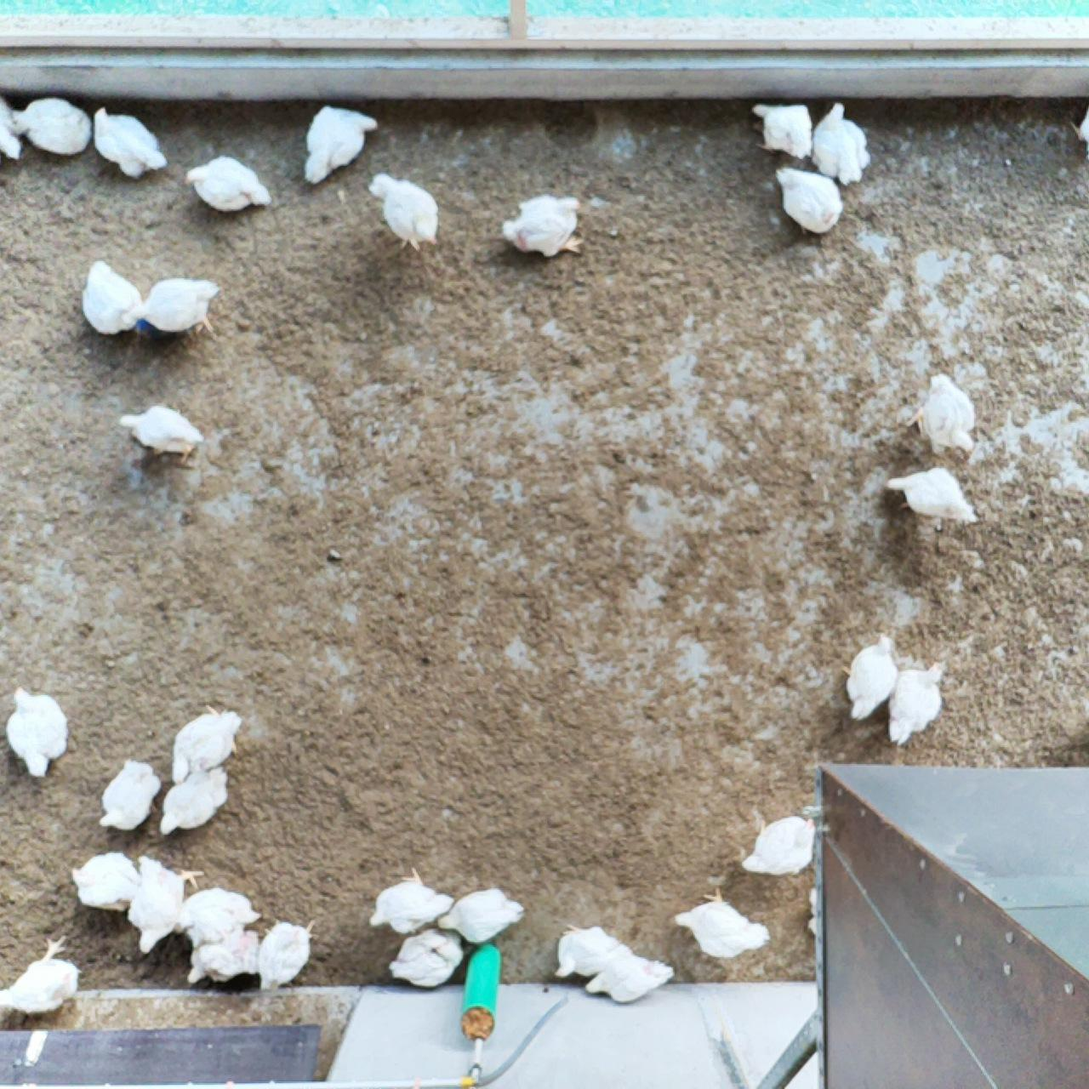chicken: (125, 852, 205, 958), (300, 100, 382, 194), (672, 886, 774, 960), (5, 684, 77, 781), (176, 148, 276, 217), (0, 932, 80, 1018), (365, 863, 455, 938), (904, 369, 978, 460), (92, 103, 173, 186), (123, 277, 221, 345), (497, 192, 587, 265), (112, 398, 207, 467), (882, 464, 979, 531), (369, 172, 441, 257), (171, 700, 242, 785), (836, 633, 900, 726), (171, 886, 262, 950), (886, 659, 951, 747), (157, 764, 232, 840), (738, 812, 818, 883), (9, 95, 95, 161), (809, 97, 873, 184), (773, 163, 846, 237), (96, 757, 164, 835), (80, 256, 145, 337), (438, 882, 524, 942), (261, 915, 321, 1000), (388, 925, 465, 991), (586, 949, 678, 1002), (72, 847, 143, 915), (184, 929, 261, 986), (551, 922, 623, 982), (750, 100, 815, 162)
